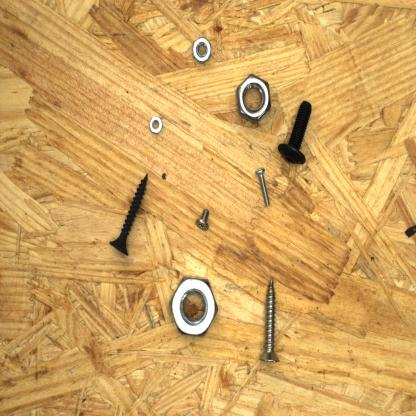screw: (106, 170, 151, 257), (272, 96, 317, 167), (254, 276, 286, 367), (250, 163, 272, 209), (193, 200, 214, 232)
